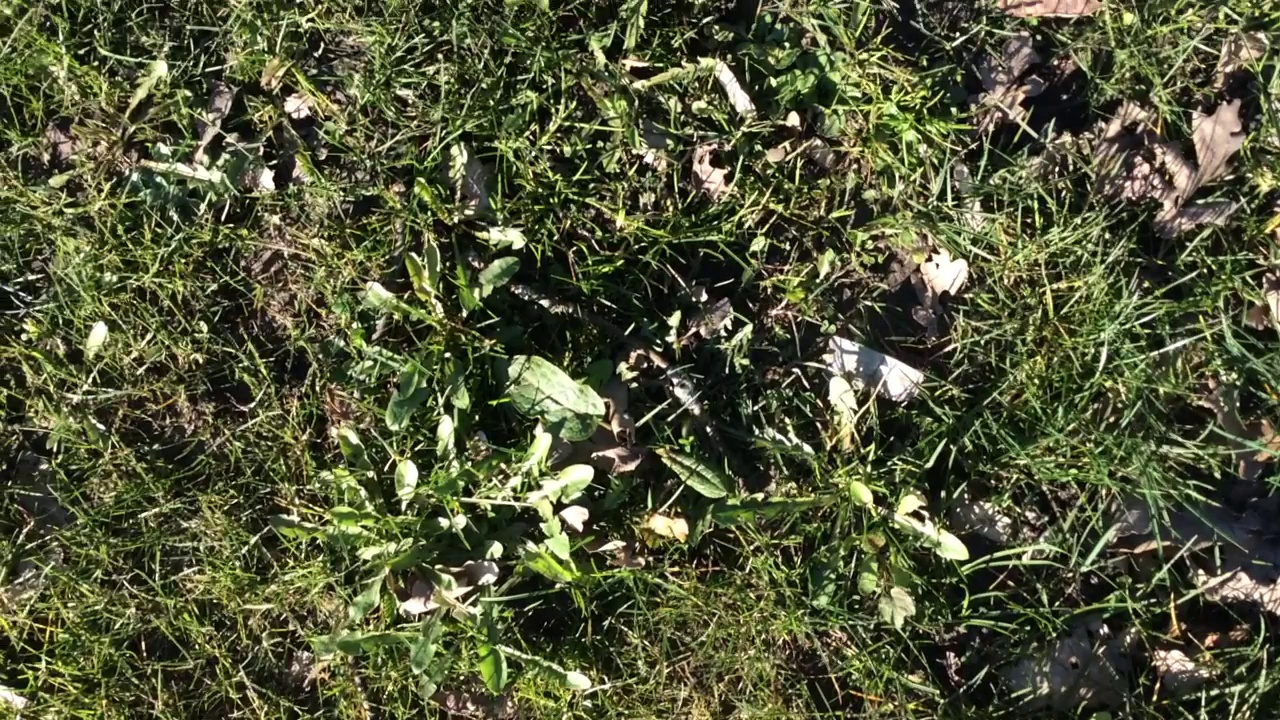rumex: (492, 352, 606, 442), (656, 449, 729, 500)
